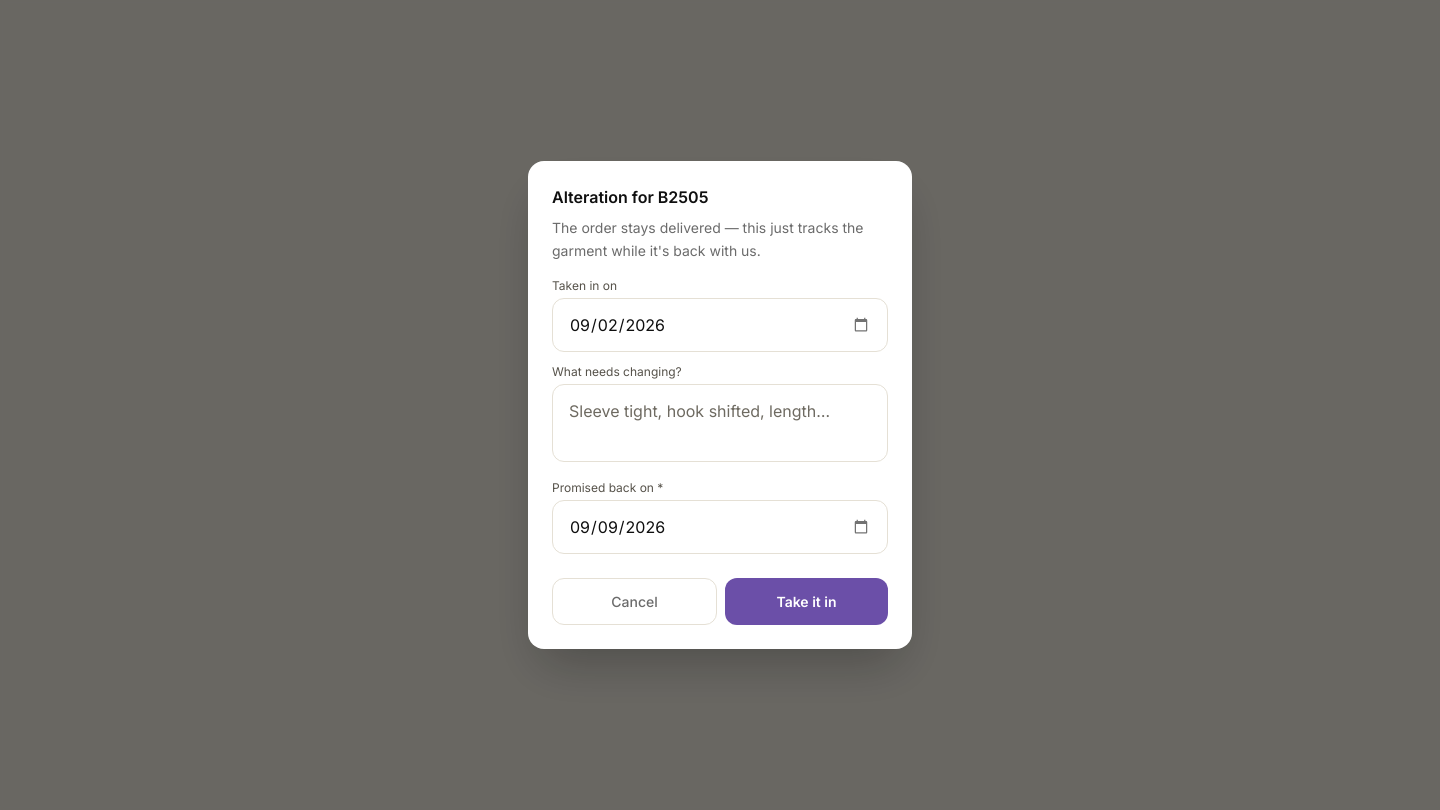
Scenario: StartAlterationDialog › cannot be submitted without a promised date
This screenshot has width=1440, height=810.
Step 1. Clear the date field labelled "Promised back on *" → (720, 527), box [552,500,888,554]
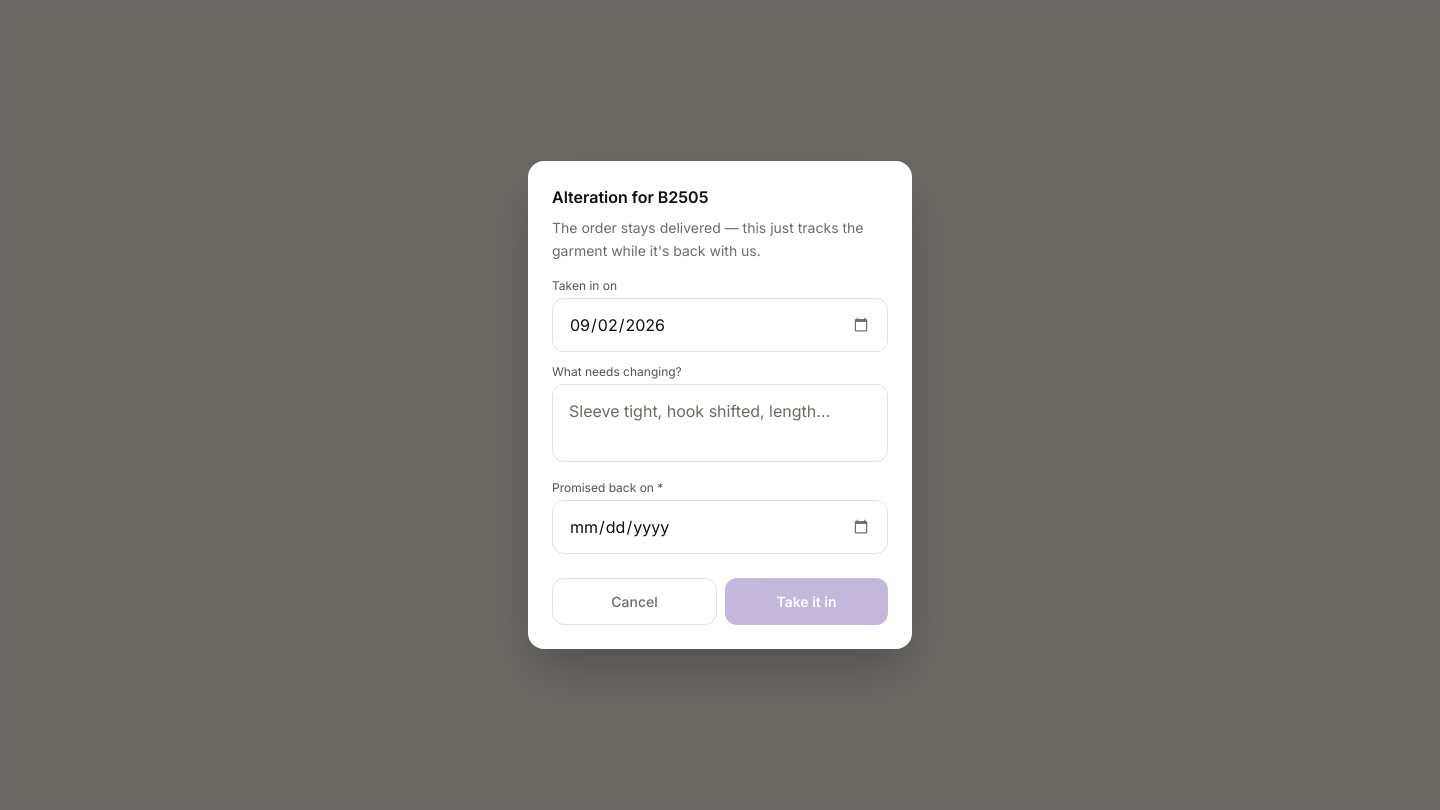
Now the button "Take it in" is disabled, box [725,578,888,625]
